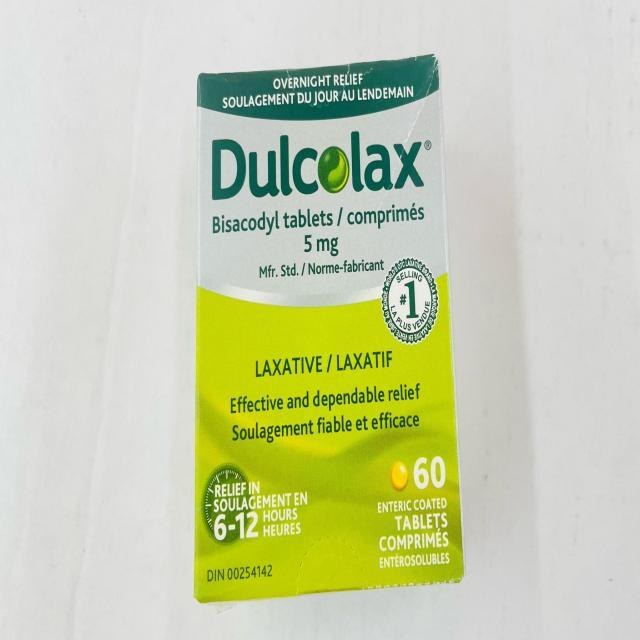Medicine Name: (206, 121, 426, 204)
